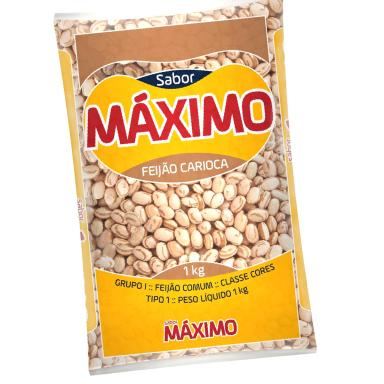beans package: (55, 0, 315, 373)
